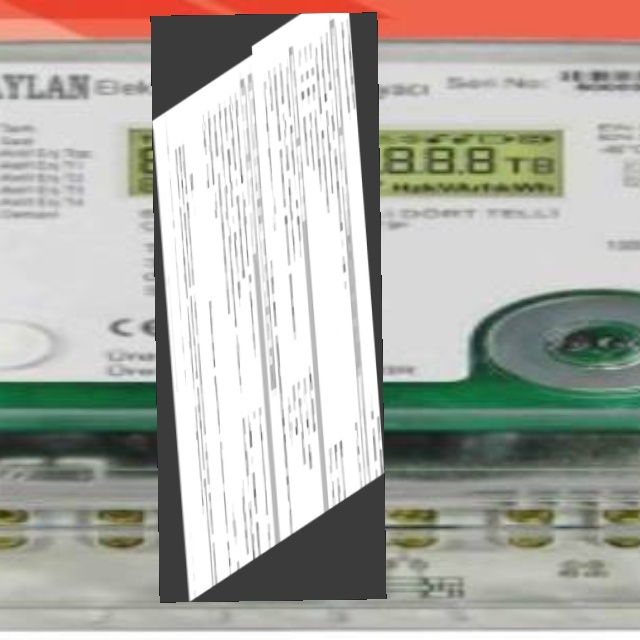electricity-bill: (150, 11, 386, 602)
